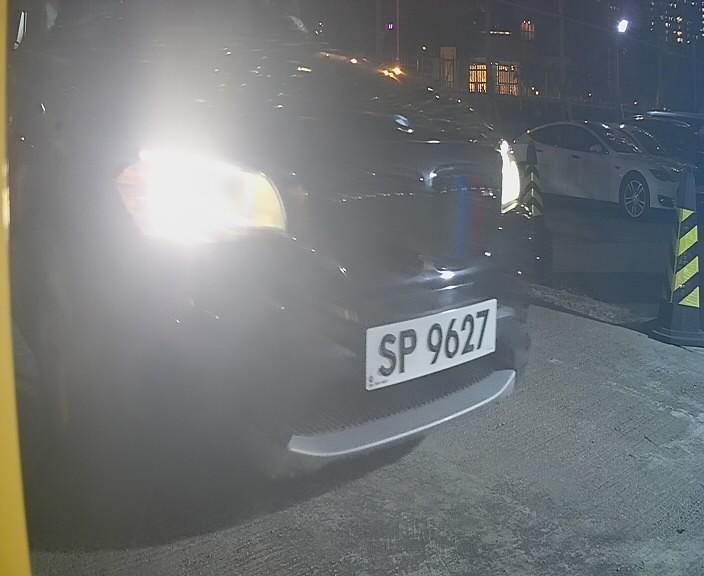License Plate: (353, 294, 503, 391)
